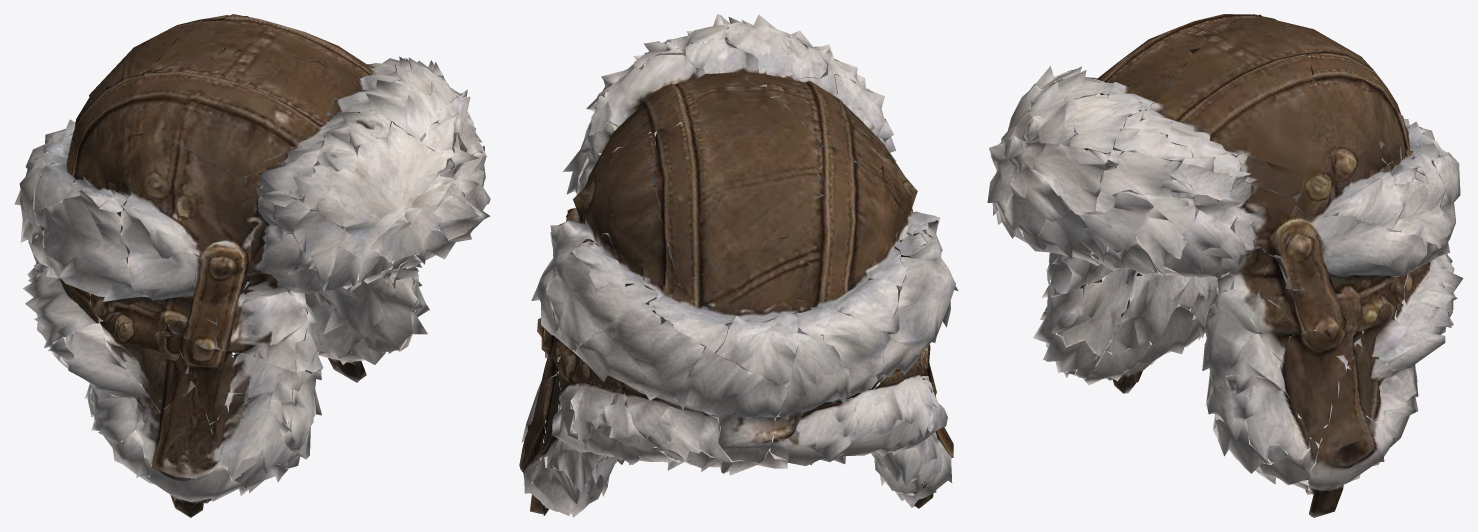
File: armor_lake_fur_head.glb
The picture shows the model from 3 angles, left to right: view 1: azimuth 30°, elevation 25°; view 2: azimuth 150°, elevation 25°; view 3: azimuth 270°, elevation 25°; orthographic projection. The views are drawn at different scales.
Parts seen in each view (by area): view 1: Mesh_0; view 2: Mesh_0; view 3: Mesh_0.
Boxes of the visible parts, x1,y1,x2,y2 form: Mesh_0: (14,14,490,517); Mesh_0: (519,14,958,517); Mesh_0: (987,14,1463,517).
Size of the model in its own units: 0.5618 by 0.5876 by 0.622.
1 material, 1 textured.
